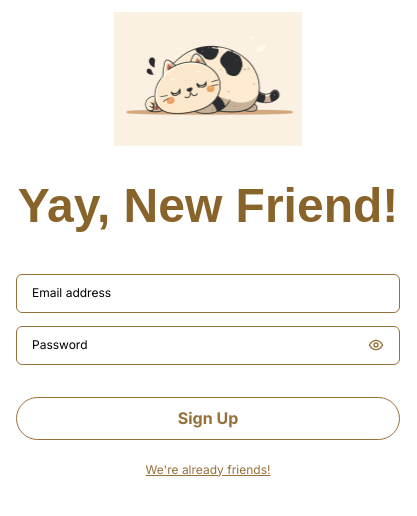
Test: RegisterPage › shows password validation error for short password
In the field labelled "Email address": coordinates (208, 293) [32,284,384,302], type "user@example.com"
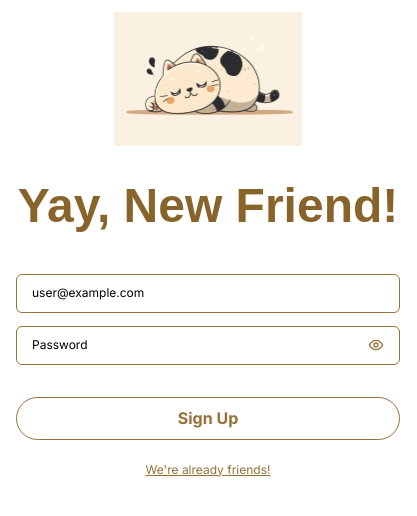
In the password field labelled "Password": coordinates (196, 345) [32,336,360,354], type "short"
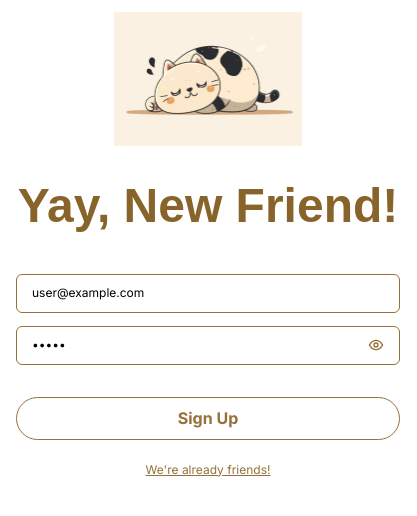
Click the button "Sign Up": coordinates (208, 418) [16,397,400,440]
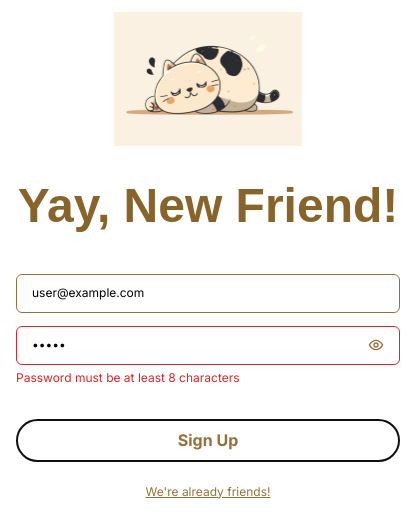
Result: the text "Password must be at least 8 characters" is shown at [16,369,240,387]
